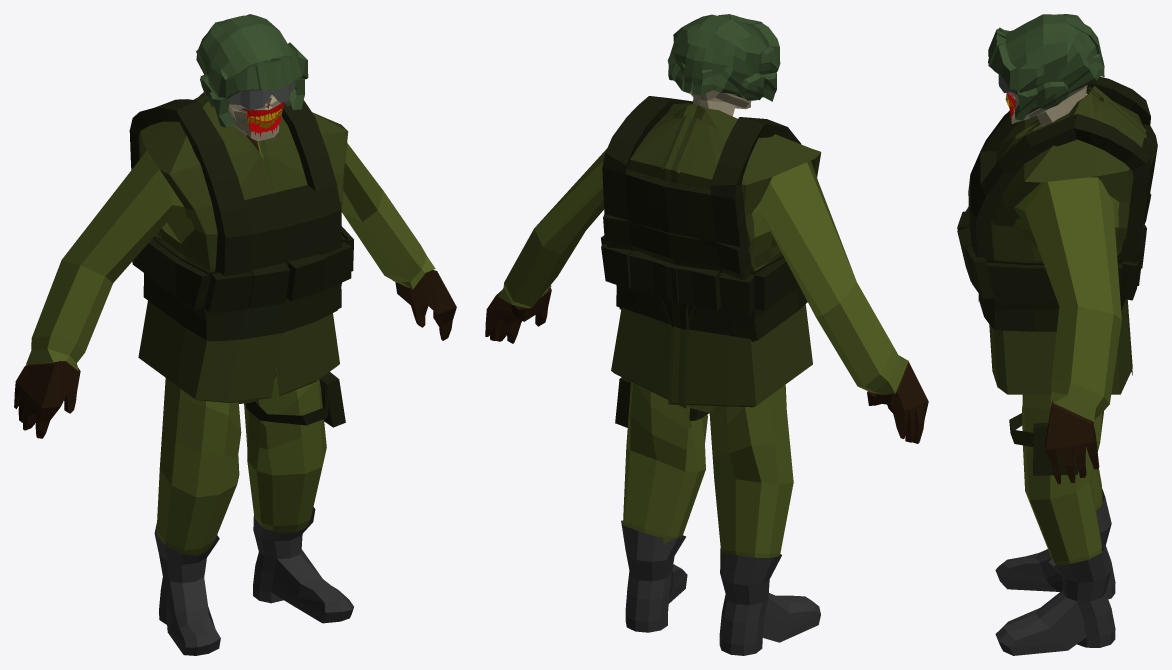
The model's file is pilot.fbx.
3 renders of one model, left to right at view 1: azimuth 30°, elevation 25°; view 2: azimuth 150°, elevation 25°; view 3: azimuth 270°, elevation 25°, orthographic.
Visible parts, largest first — view 1: Armor, Vest, torso, jacket, shoes, helmet, body, accessories, Visor, Head, bleeding gum; view 2: Armor, Vest, torso, jacket, shoes, helmet, body, Head, accessories; view 3: Armor, jacket, Vest, shoes, helmet, torso, body, accessories, Head.
Part boxes in pixels (x1,y1,x2,y2): Armor: [129, 99, 353, 341]; Vest: [138, 92, 348, 402]; torso: [156, 370, 326, 555]; jacket: [26, 141, 435, 372]; shoes: [154, 507, 353, 655]; helmet: [196, 14, 308, 127]; body: [14, 135, 456, 438]; accessories: [245, 372, 345, 427]; Visor: [229, 81, 295, 110]; Head: [228, 95, 280, 141]; bleeding gum: [242, 102, 284, 137]; Armor: [601, 96, 807, 341]; Vest: [611, 103, 821, 408]; torso: [623, 382, 793, 557]; jacket: [498, 149, 908, 394]; shoes: [621, 520, 820, 655]; helmet: [667, 14, 780, 101]; body: [485, 286, 928, 443]; Head: [690, 89, 751, 116]; accessories: [615, 377, 709, 427]; Armor: [957, 76, 1157, 331]; jacket: [1013, 124, 1121, 421]; Vest: [989, 86, 1146, 394]; shoes: [995, 489, 1115, 655]; helmet: [988, 14, 1104, 120]; torso: [1022, 394, 1103, 565]; body: [1045, 400, 1099, 484]; accessories: [1009, 413, 1078, 475]; Head: [1008, 85, 1087, 126].
Size of the model in its own units: 1126 by 1524 by 465.
